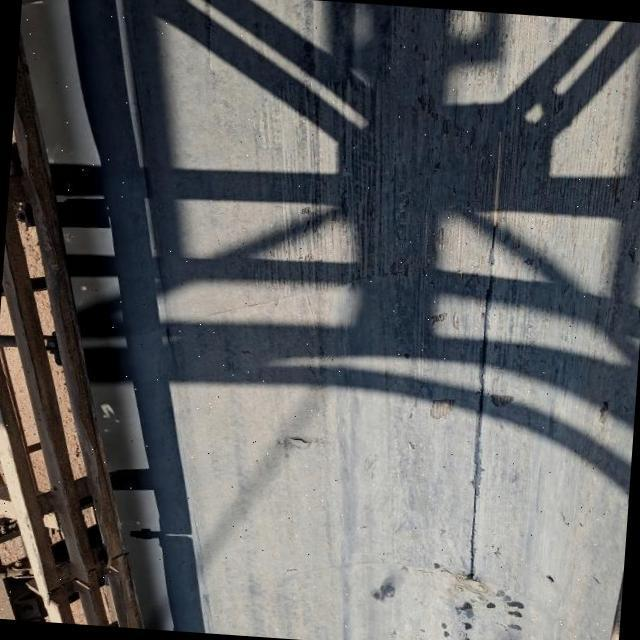Impact Damage: (423, 392, 459, 421), (486, 388, 514, 414)
Tear: (462, 126, 512, 587), (284, 429, 314, 448), (234, 346, 258, 361)
